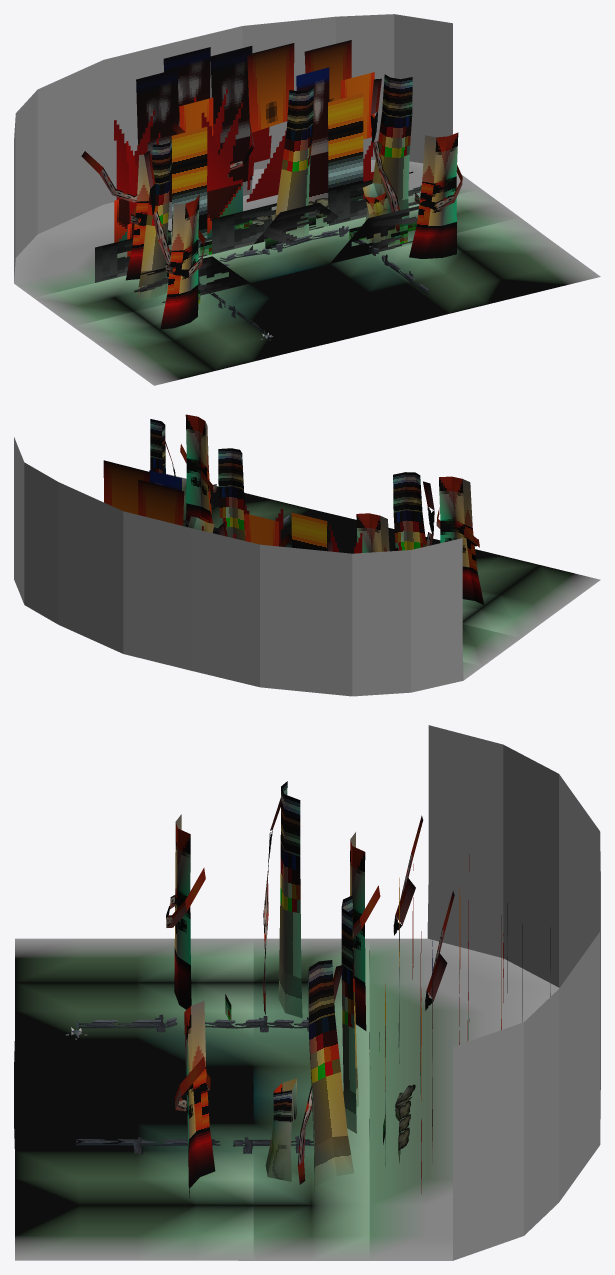
The picture shows the model from 3 angles, top to bottom: view 1: azimuth 30°, elevation 25°; view 2: azimuth 150°, elevation 25°; view 3: azimuth 270°, elevation 25°; orthographic projection. The views are drawn at different scales.
Parts seen in each view (by area): view 1: extra_3974, extra_1340, extra_4a1c, extra_48ec, extra_4b58; view 2: extra_3974, extra_1340; view 3: extra_3974, extra_1340, extra_4b58.
Boxes of the visible parts, x1,y1,x2,y2 form: extra_3974: [14, 14, 600, 385]; extra_1340: [81, 40, 462, 329]; extra_4a1c: [95, 171, 421, 282]; extra_48ec: [134, 203, 418, 302]; extra_4b58: [198, 226, 429, 334]; extra_3974: [14, 437, 600, 696]; extra_1340: [103, 414, 484, 604]; extra_3974: [14, 725, 600, 1260]; extra_1340: [166, 781, 550, 1197]; extra_4b58: [76, 1014, 313, 1153].
Bounding box in the file's own units: 12.45 × 4.03 × 9.58.
